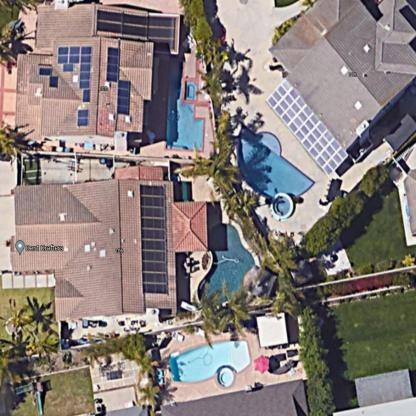pool: (229, 124, 321, 224), (196, 216, 260, 316), (165, 332, 257, 392), (162, 72, 208, 158)
